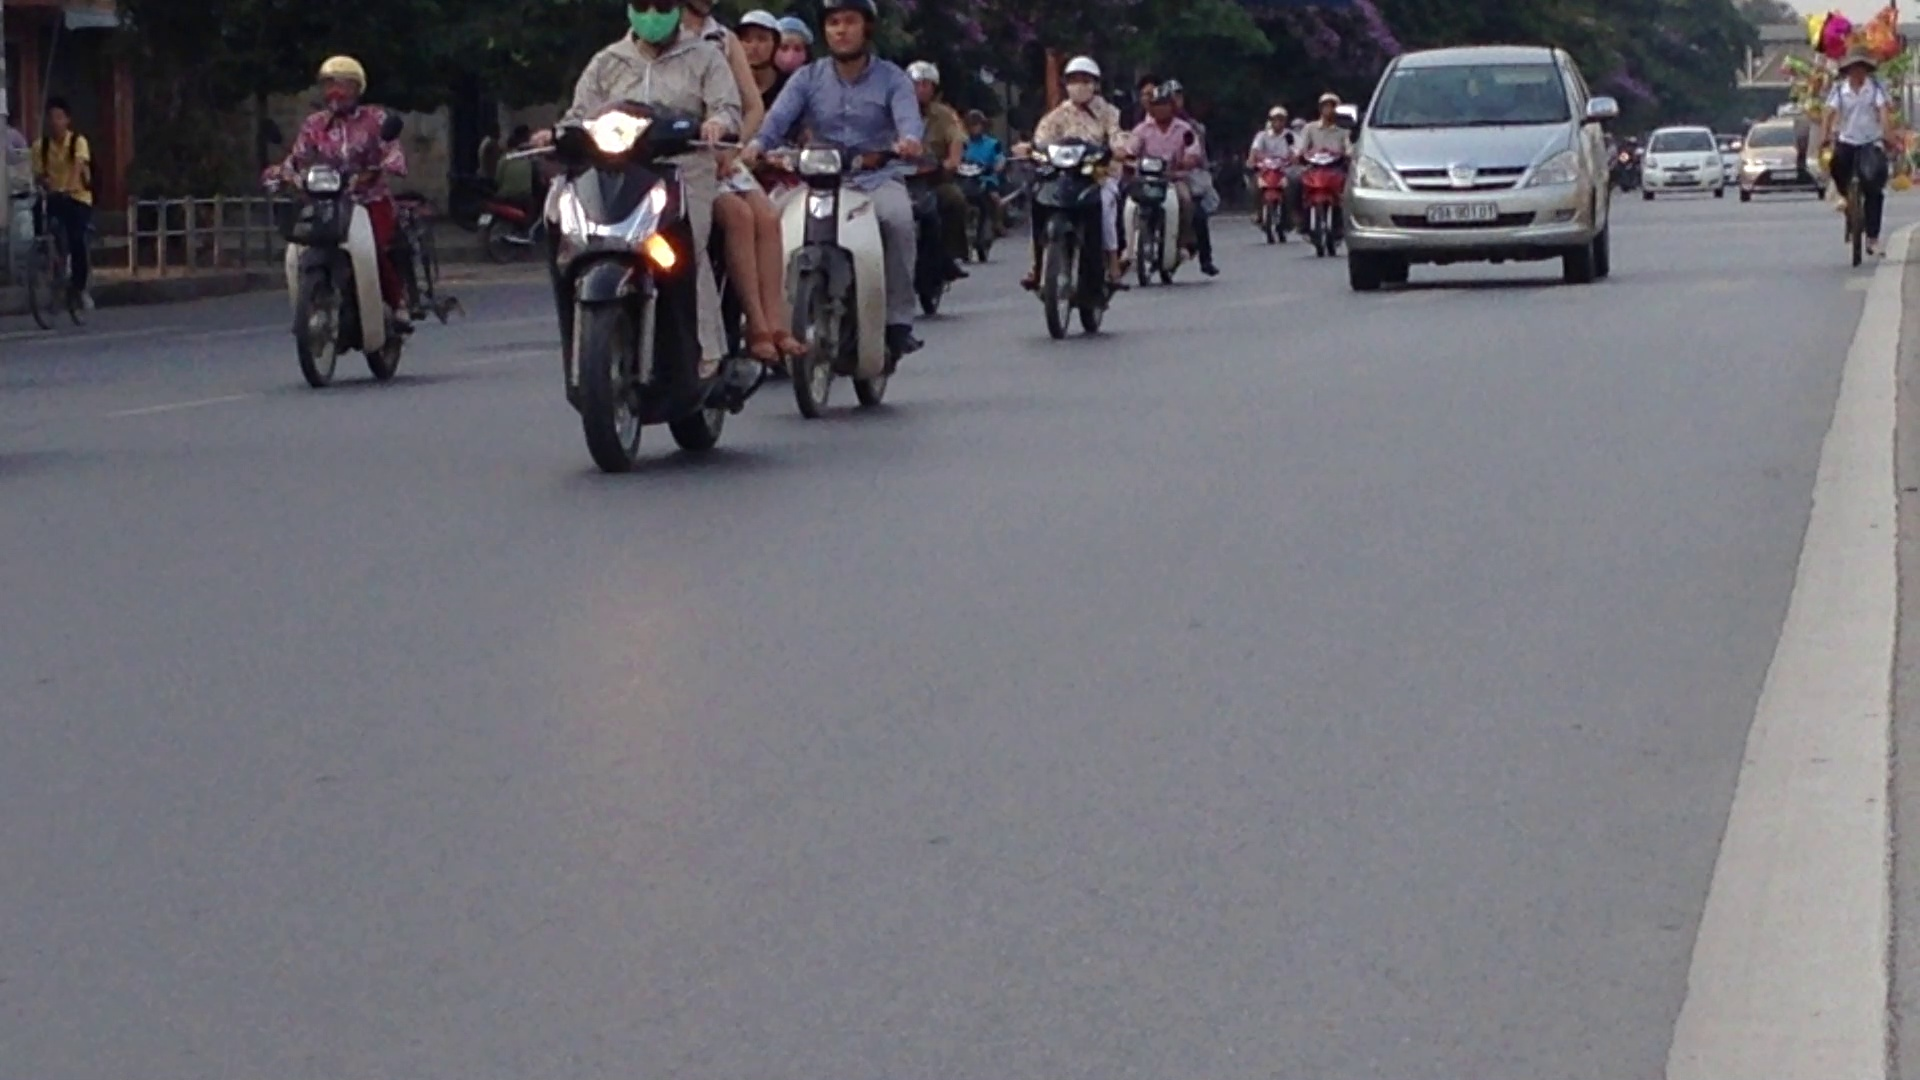person: (1422, 198, 1501, 224)
